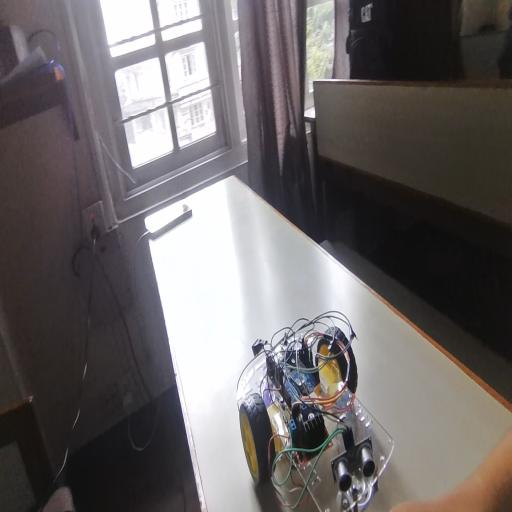car: (239, 331, 440, 512)
